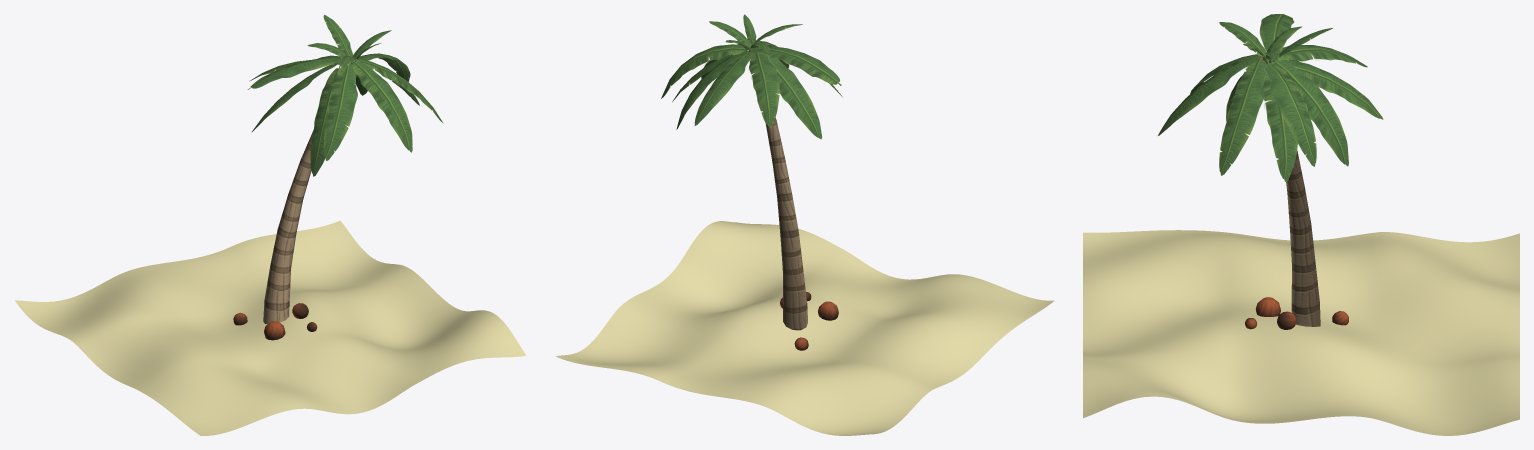
Rendered from coconut_tree.glb.
The picture shows the model from 3 angles, left to right: view 1: azimuth 30°, elevation 25°; view 2: azimuth 150°, elevation 25°; view 3: azimuth 270°, elevation 25°; orthographic projection. The views are drawn at different scales.
Visible parts, largest first — view 1: Plane017, Cylinder001, Plane005, Plane001, Plane015, Plane004, Plane006, Plane008, Plane002, Plane012; view 2: Plane017, Cylinder001, Plane008, Plane003, Plane004, Plane016, Plane002, Plane007; view 3: Plane017, Cylinder001, Plane006, Plane002, Plane007, Plane014, Plane016, Plane001, Plane003, Plane004, Plane010, Sphere013.
Part boxes in pixels (x1,y1,x2,y2): Plane017: [15, 220, 526, 435]; Cylinder001: [263, 63, 352, 324]; Plane005: [323, 64, 357, 160]; Plane001: [352, 61, 412, 152]; Plane015: [310, 64, 340, 176]; Plane004: [247, 58, 341, 89]; Plane006: [358, 59, 443, 123]; Plane008: [251, 62, 338, 132]; Plane002: [356, 53, 410, 81]; Plane012: [323, 14, 353, 56]; Plane017: [555, 221, 1054, 435]; Cylinder001: [749, 50, 807, 330]; Plane008: [759, 53, 822, 139]; Plane003: [748, 52, 779, 128]; Plane004: [750, 46, 841, 85]; Plane016: [694, 51, 753, 126]; Plane002: [661, 44, 746, 98]; Plane007: [676, 50, 749, 129]; Plane017: [1083, 230, 1519, 435]; Cylinder001: [1262, 59, 1320, 326]; Plane006: [1219, 55, 1266, 175]; Plane002: [1264, 63, 1316, 166]; Plane007: [1272, 59, 1348, 166]; Plane014: [1262, 59, 1297, 181]; Plane016: [1271, 59, 1383, 119]; Plane001: [1158, 54, 1259, 135]; Plane003: [1277, 45, 1367, 67]; Plane004: [1259, 14, 1294, 54]; Plane010: [1219, 22, 1266, 57]; Sphere013: [1255, 297, 1280, 316].
Size of the model in its own units: 142 by 129 by 140.
Materials: 5 (4 with a texture image).
